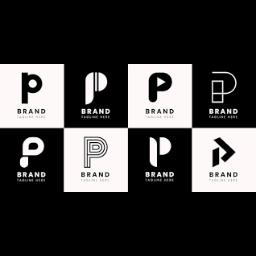p: (146, 70, 174, 106), (82, 136, 110, 168), (20, 71, 42, 103)
